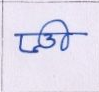i_matra: (53, 18, 71, 50)
